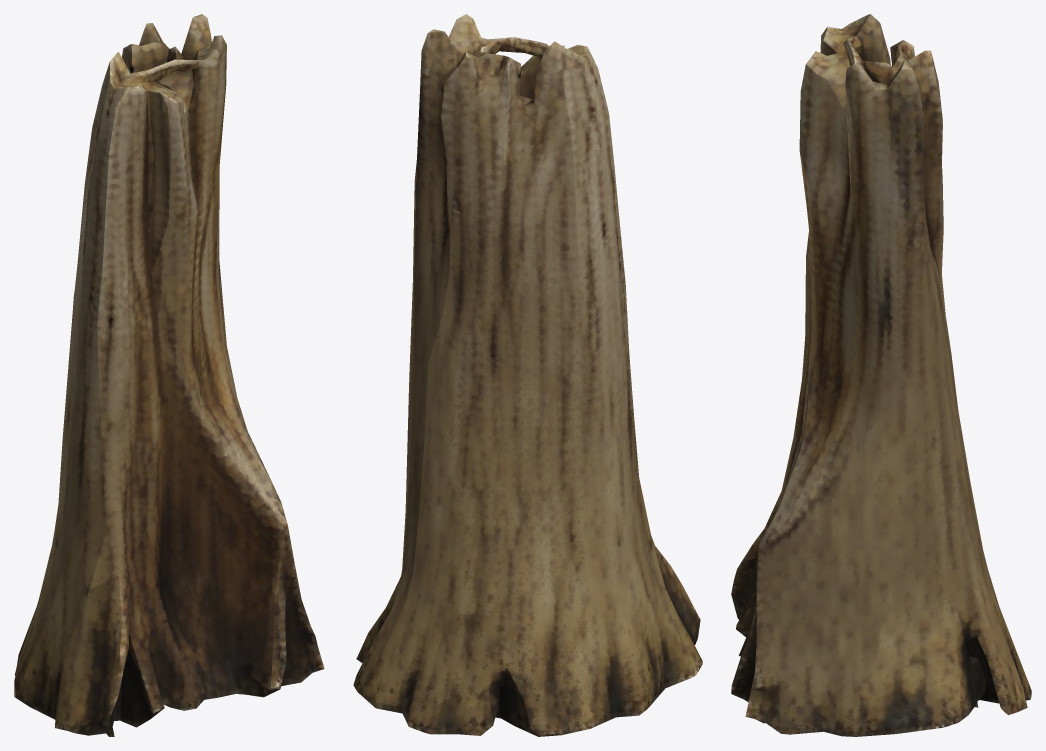
Rendered from stump-spruce.glb.
3 views of the same model, side by side, from view 1: azimuth 30°, elevation 25°; view 2: azimuth 150°, elevation 25°; view 3: azimuth 270°, elevation 25° (orthographic). The views are drawn at different scales.
Visible parts, largest first — view 1: stump-spruce; view 2: stump-spruce; view 3: stump-spruce.
Boxes of the visible parts, x1=… form: stump-spruce: x1=14, y1=14, x2=324, y2=736; stump-spruce: x1=353, y1=14, x2=702, y2=736; stump-spruce: x1=731, y1=14, x2=1031, y2=736.
Bounding box in the file's own units: 0.5137 × 1.2 × 0.4993.
Materials: 1 (1 with a texture image).
